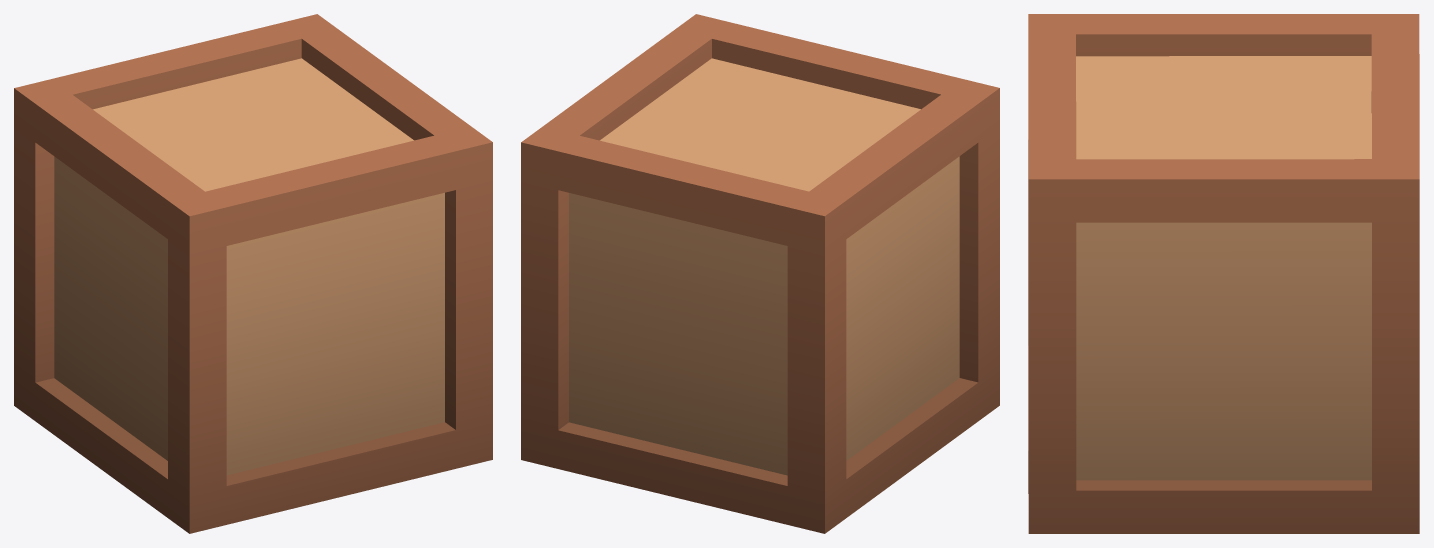
3 renders of one model, left to right at view 1: azimuth 30°, elevation 25°; view 2: azimuth 150°, elevation 25°; view 3: azimuth 270°, elevation 25°, orthographic. The views are drawn at different scales.
Visible parts, largest first — view 1: box; view 2: box; view 3: box.
Boxes of the visible parts, <box> form: box: <box>14,14,492,533</box>; box: <box>521,14,999,533</box>; box: <box>1028,14,1419,533</box>.
Bounding box in the file's own units: 126 × 126 × 126.
Materials: 1 (1 with a texture image).
